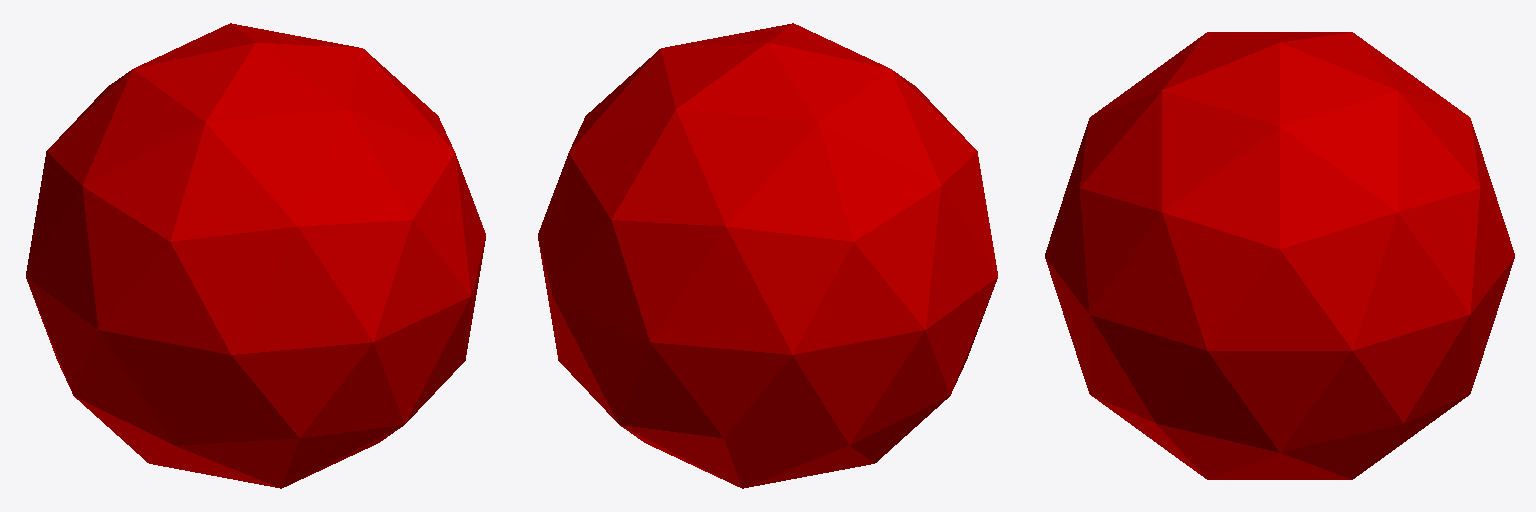
Rendered from point.obj.
3 renders of one model, left to right at view 1: azimuth 30°, elevation 25°; view 2: azimuth 150°, elevation 25°; view 3: azimuth 270°, elevation 25°, orthographic.
Visible parts, largest first — view 1: Icosphere_Icosphere.001; view 2: Icosphere_Icosphere.001; view 3: Icosphere_Icosphere.001.
Boxes of the visible parts, <box> form: Icosphere_Icosphere.001: <box>26,23,485,488</box>; Icosphere_Icosphere.001: <box>538,23,997,488</box>; Icosphere_Icosphere.001: <box>1045,32,1514,479</box>.
Bounding box in the file's own units: 1.9 × 2 × 2.